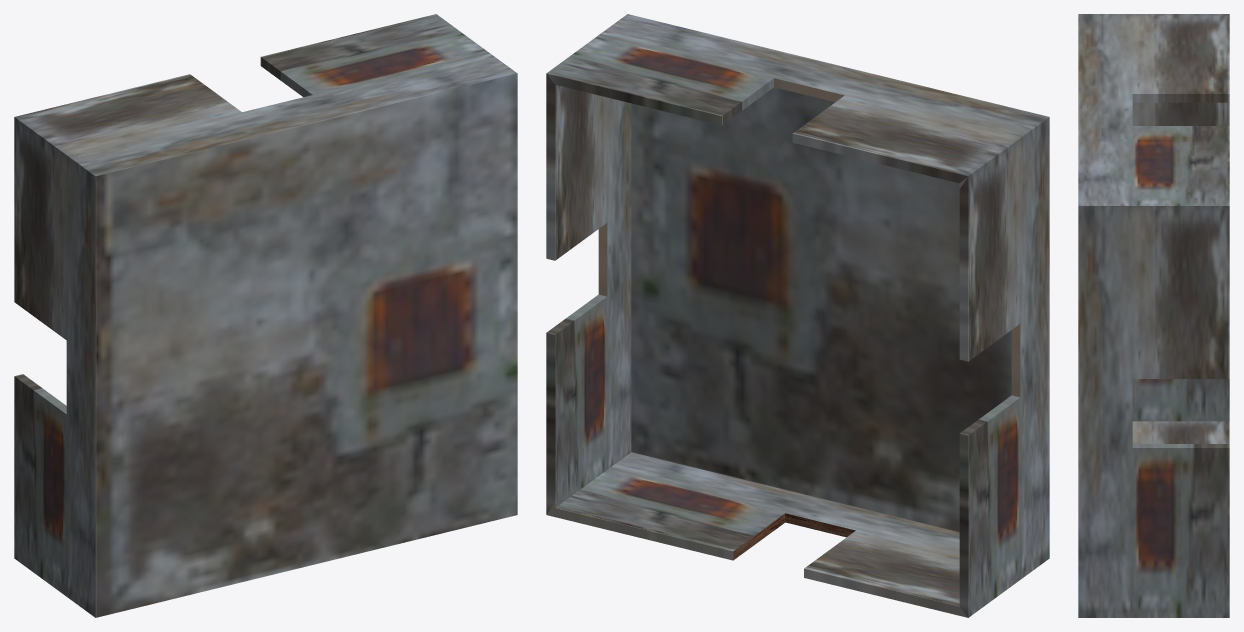
File: 6x6NSEW_crusty_wtf.obj
3 renders of one model, left to right at view 1: azimuth 30°, elevation 25°; view 2: azimuth 150°, elevation 25°; view 3: azimuth 270°, elevation 25°, orthographic. The views are drawn at different scales.
Visible parts, largest first — view 1: group2; view 2: group2; view 3: group2.
Boxes of the visible parts, <box> form: group2: <box>14,14,517,617</box>; group2: <box>546,14,1049,617</box>; group2: <box>1078,14,1229,617</box>.
Size of the model in its own units: 660 by 660 by 220.
